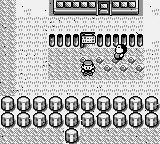leer: (80, 32, 96, 48)
main: (81, 60, 96, 76)
no-caminable: (1, 96, 160, 143), (53, 0, 98, 15), (96, 34, 143, 47), (49, 33, 79, 47), (111, 0, 139, 15)
npc: (113, 43, 127, 61)
puerta: (98, 1, 110, 15)
